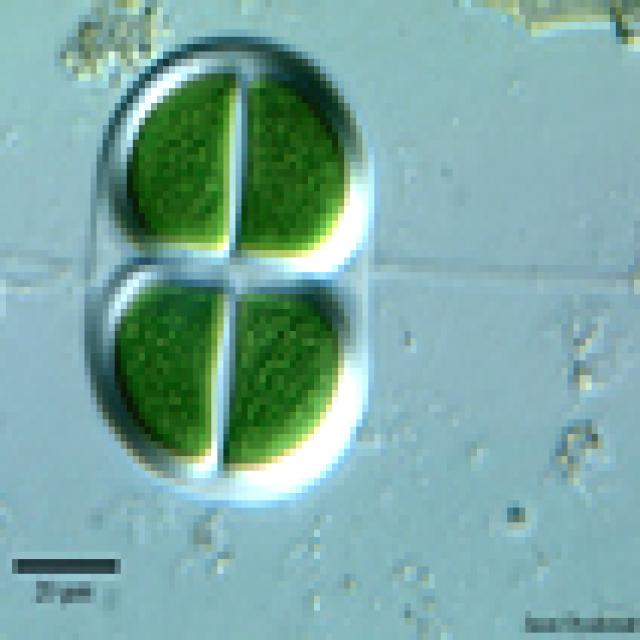Blue Green Algae: (212, 265, 356, 478), (108, 66, 242, 272), (96, 265, 230, 456), (236, 59, 344, 257)
